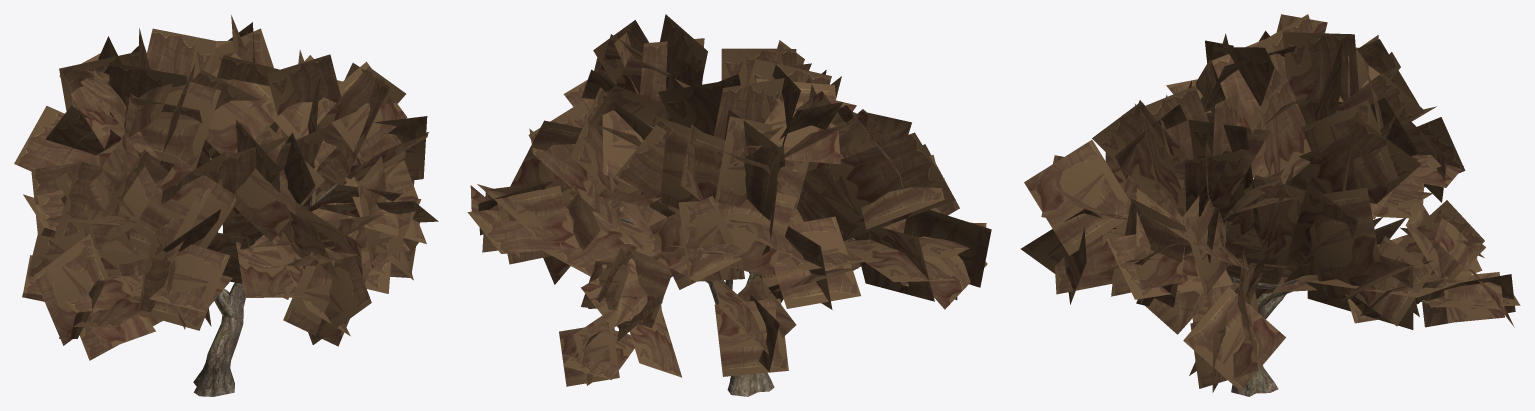
The model's file is jy_dashu02.FBX.
The picture shows the model from 3 angles, left to right: view 1: azimuth 30°, elevation 25°; view 2: azimuth 150°, elevation 25°; view 3: azimuth 270°, elevation 25°; orthographic projection. The views are drawn at different scales.
Visible parts, largest first — view 1: jy_dashu02_1, jy_dashu02; view 2: jy_dashu02_1, jy_dashu02; view 3: jy_dashu02_1, jy_dashu02.
Part boxes in pixels (x1,y1,x2,y2): jy_dashu02_1: (14,15,438,360); jy_dashu02: (193,172,347,396); jy_dashu02_1: (467,14,991,386); jy_dashu02: (620,217,855,396); jy_dashu02_1: (1021,14,1520,392); jy_dashu02: (1222,220,1472,396).
Size of the model in its own units: 929 by 714 by 950.
Materials: 2 (2 with a texture image).
